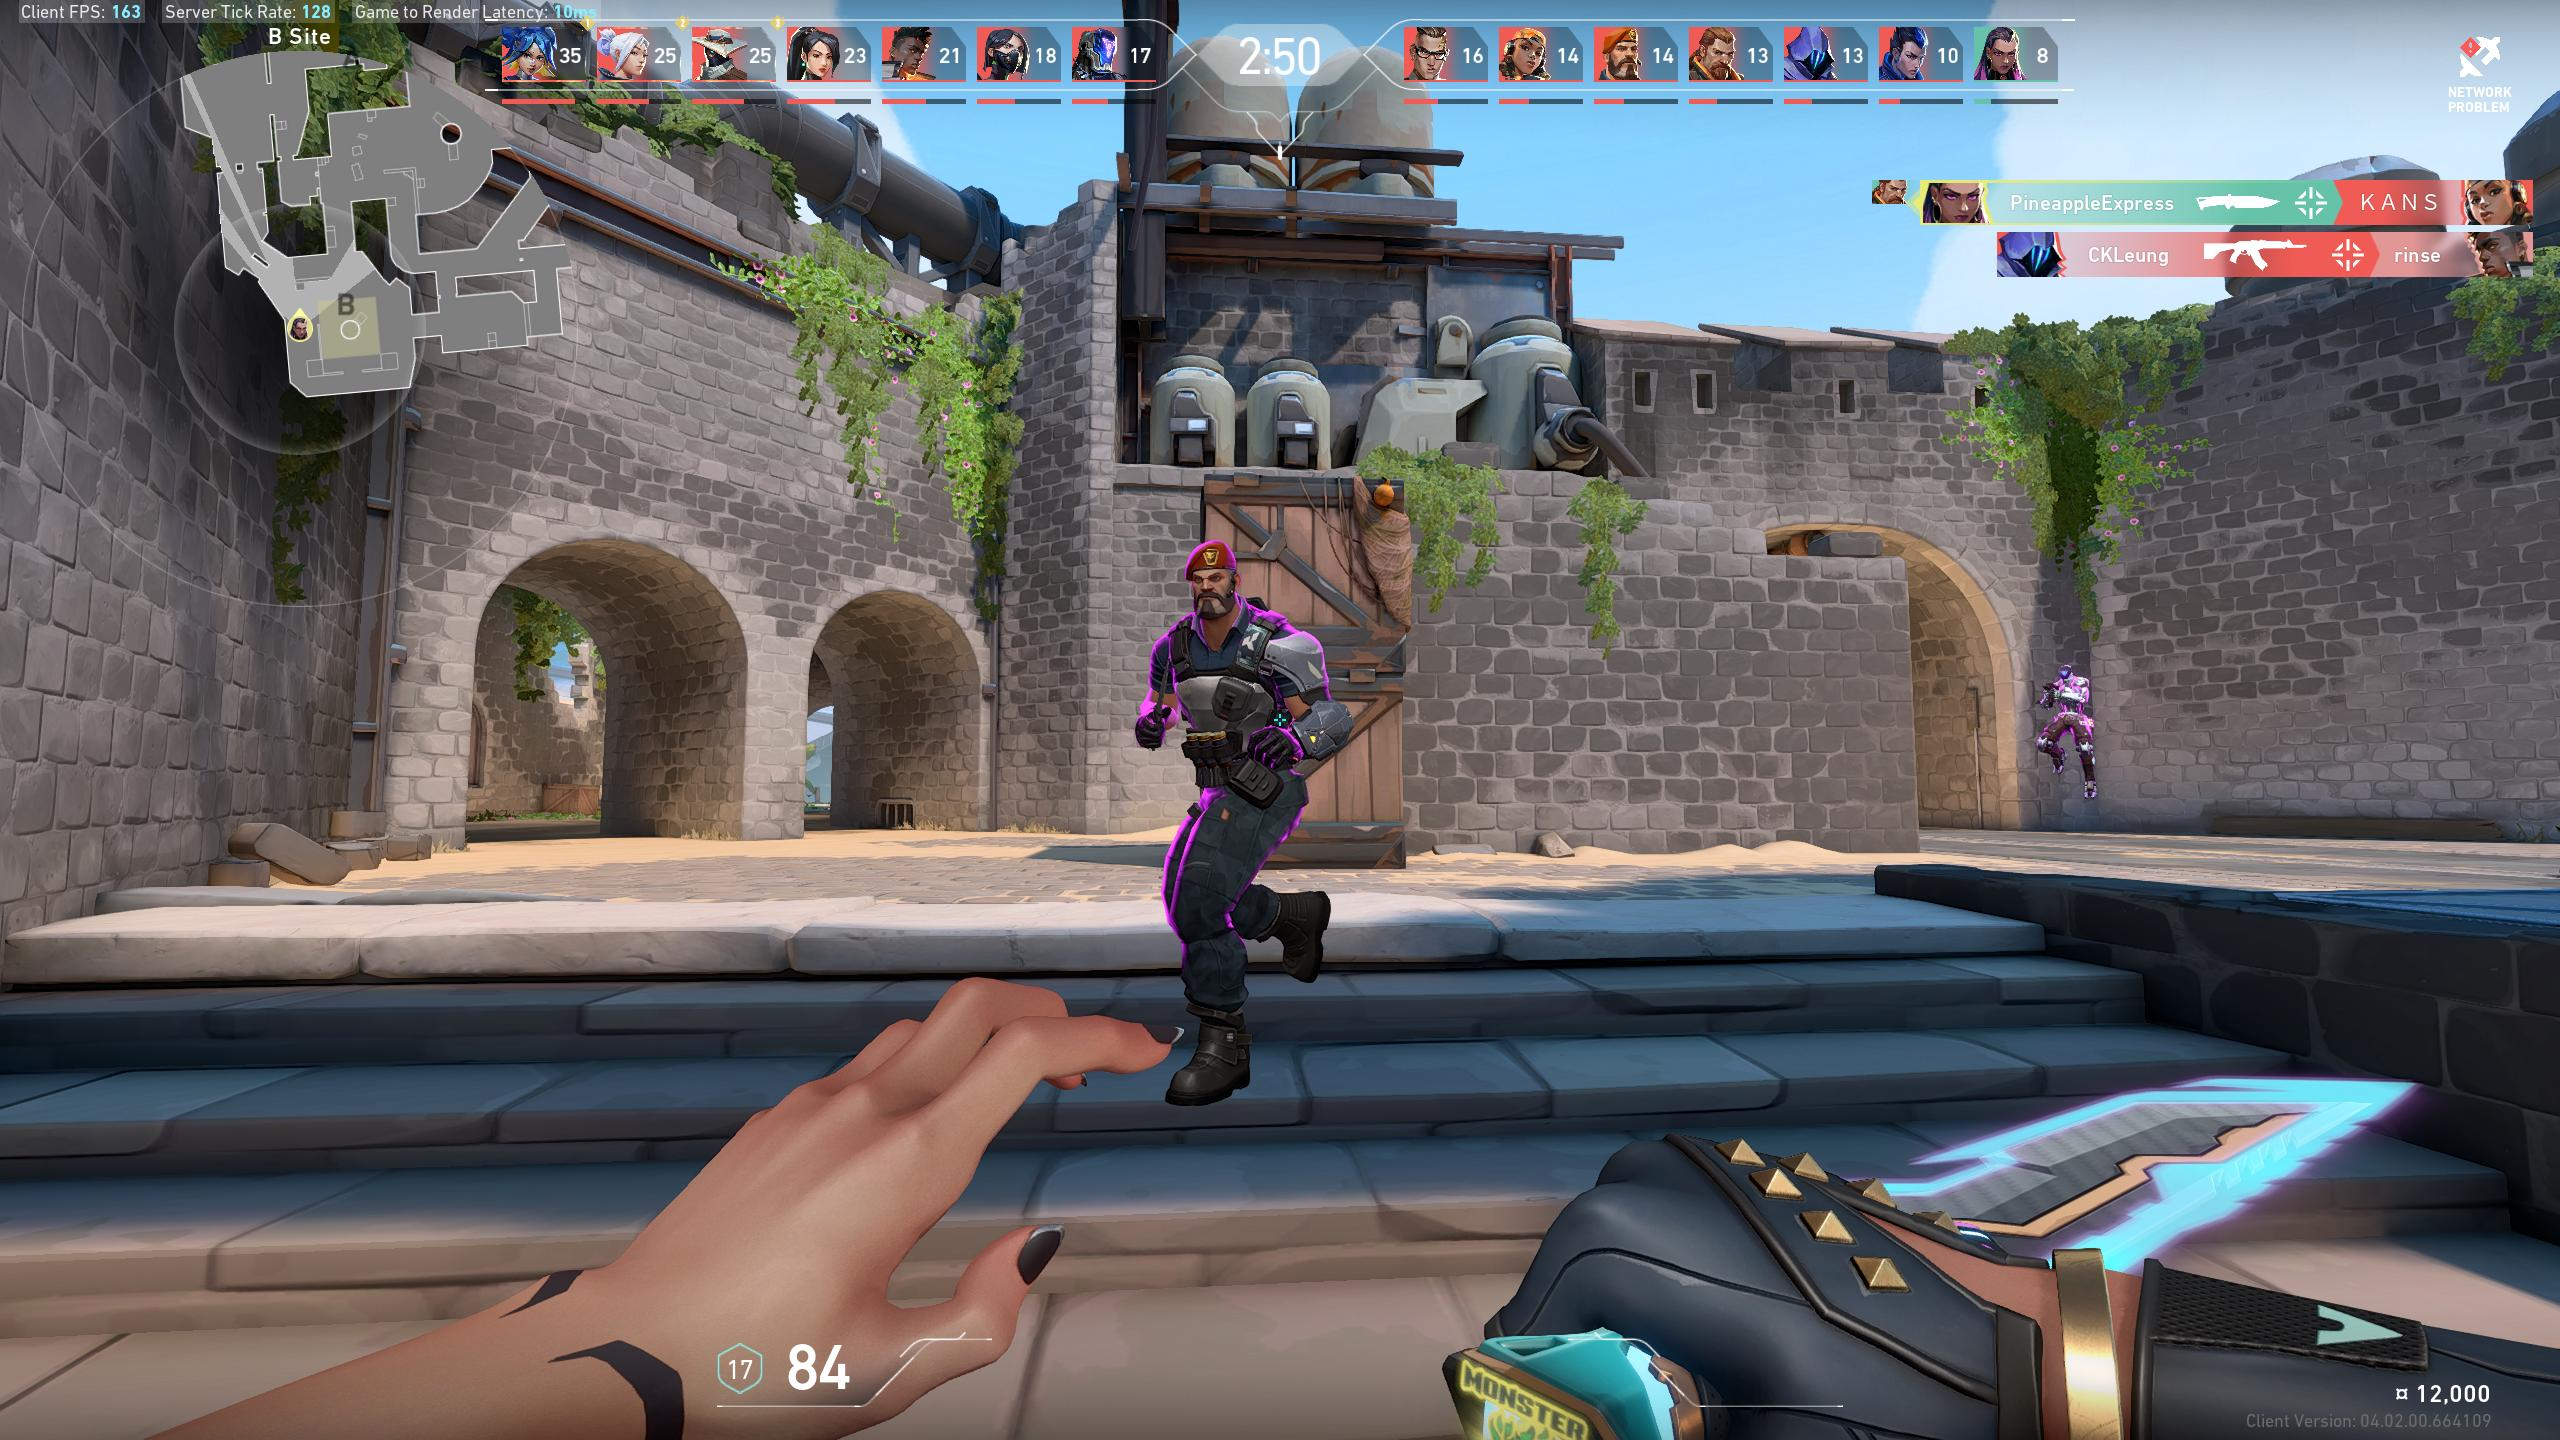enemyBody: (1180, 621, 1257, 735), (2061, 680, 2082, 710)
enemyHead: (1190, 563, 1234, 612), (2059, 666, 2069, 677)
